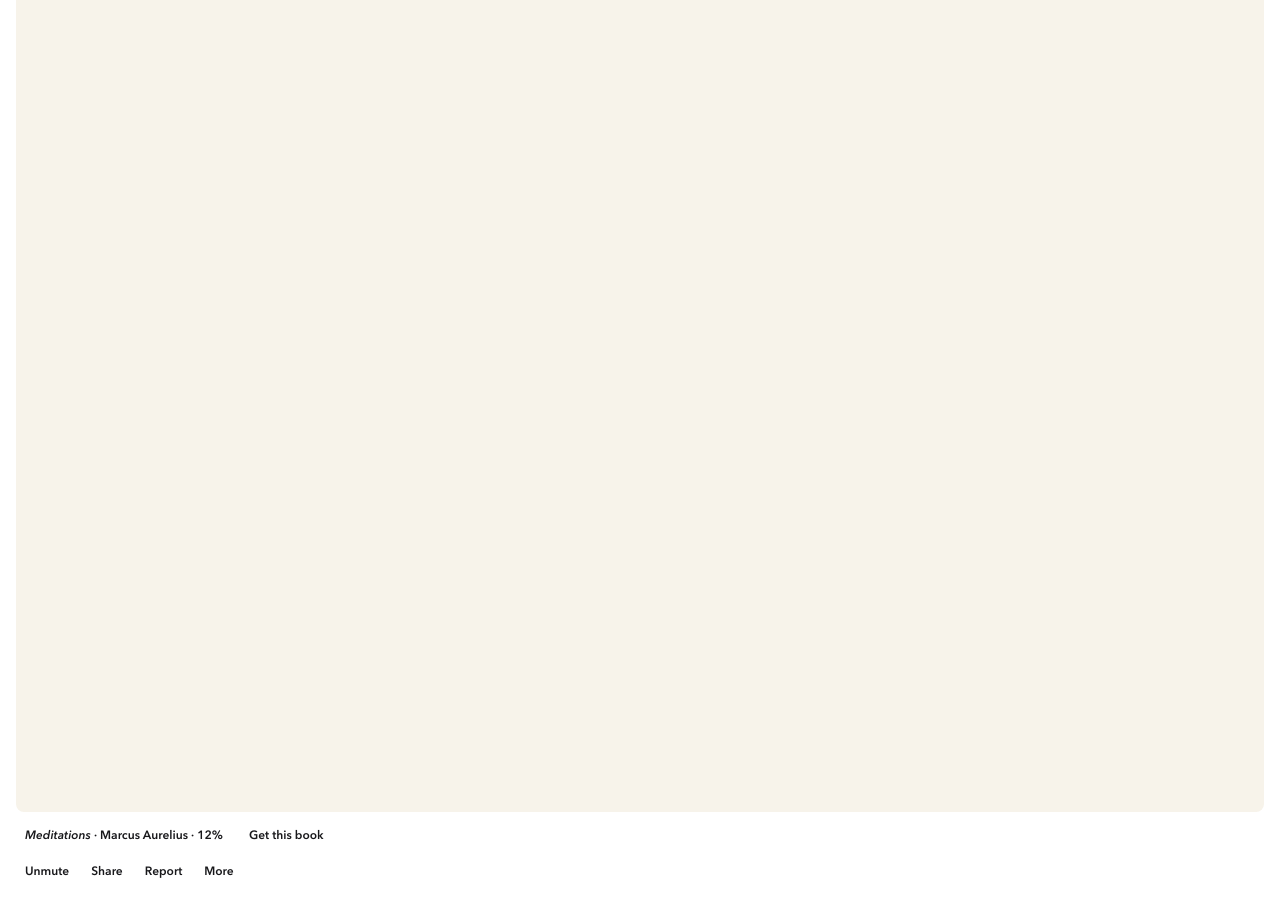
Scenario: FeedCard › offers no Block or Hide on your own post
(page scrolled)
Click the button "More": (219,872) [195,860,243,884]
(page scrolled)
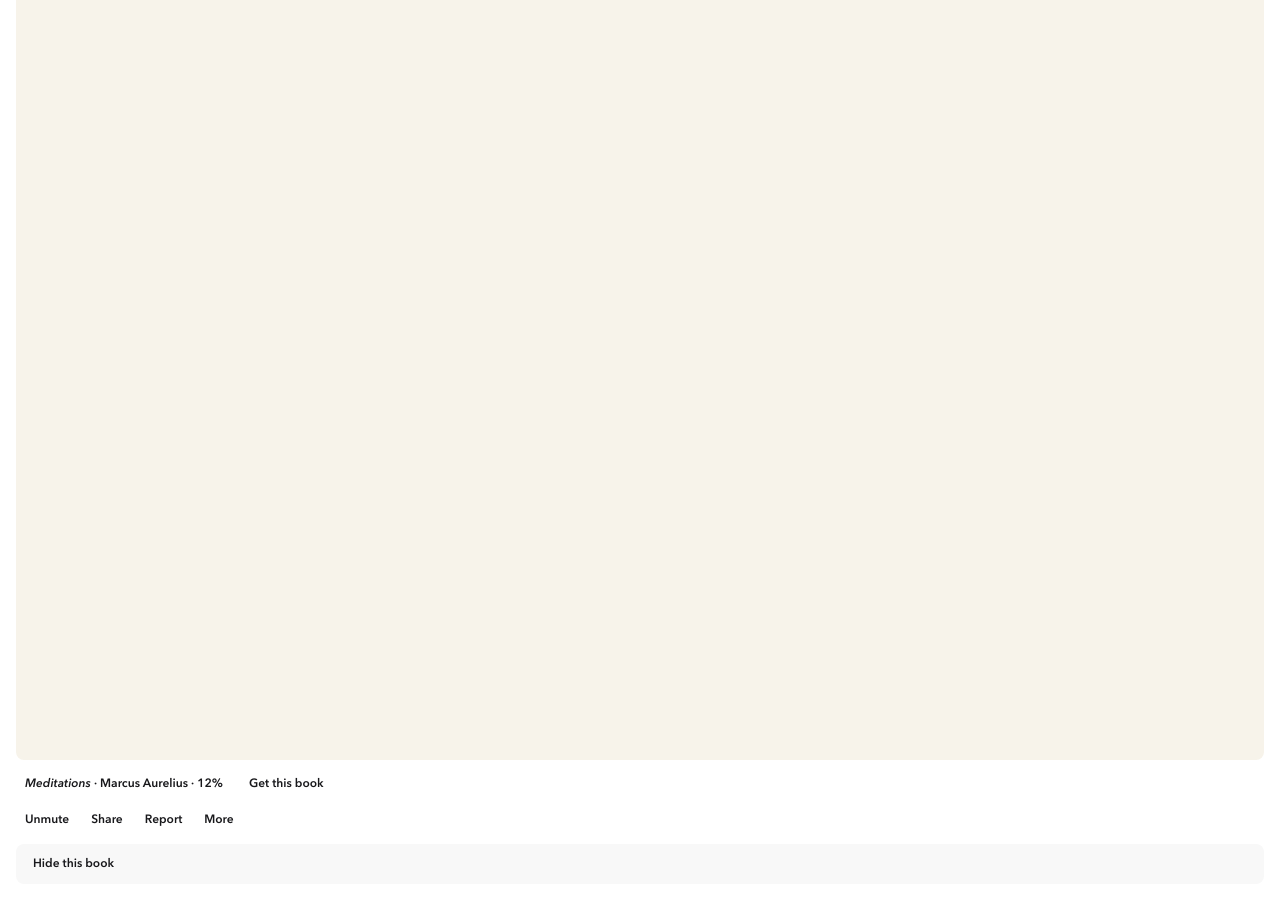
Check: the button "Hide this book" is shown, box [24,852,123,876]
